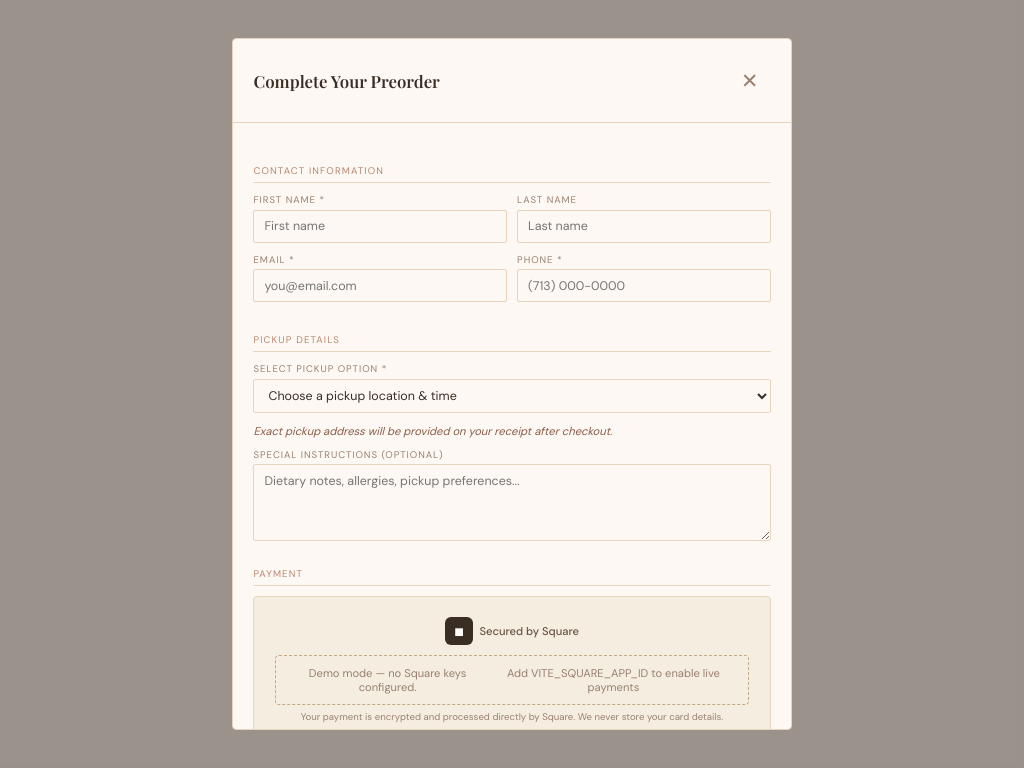
Scenario: CheckoutModal – validation unit tests › empty email shows "Email is required"
Type "Jane" into the field with placeholder "First name". click: point(380, 226)
box: [254,210,507,243]
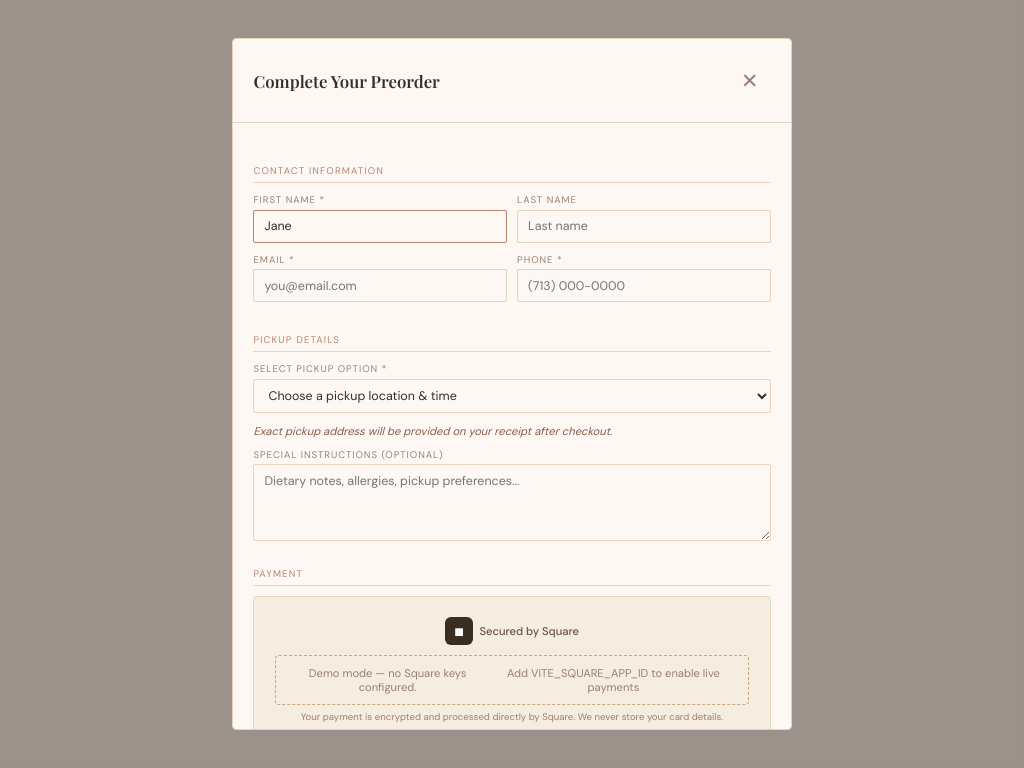
Type "7135551234" into the field with placeholder "(713) 000-0000". click: point(644, 286)
box: [517,269,770,302]
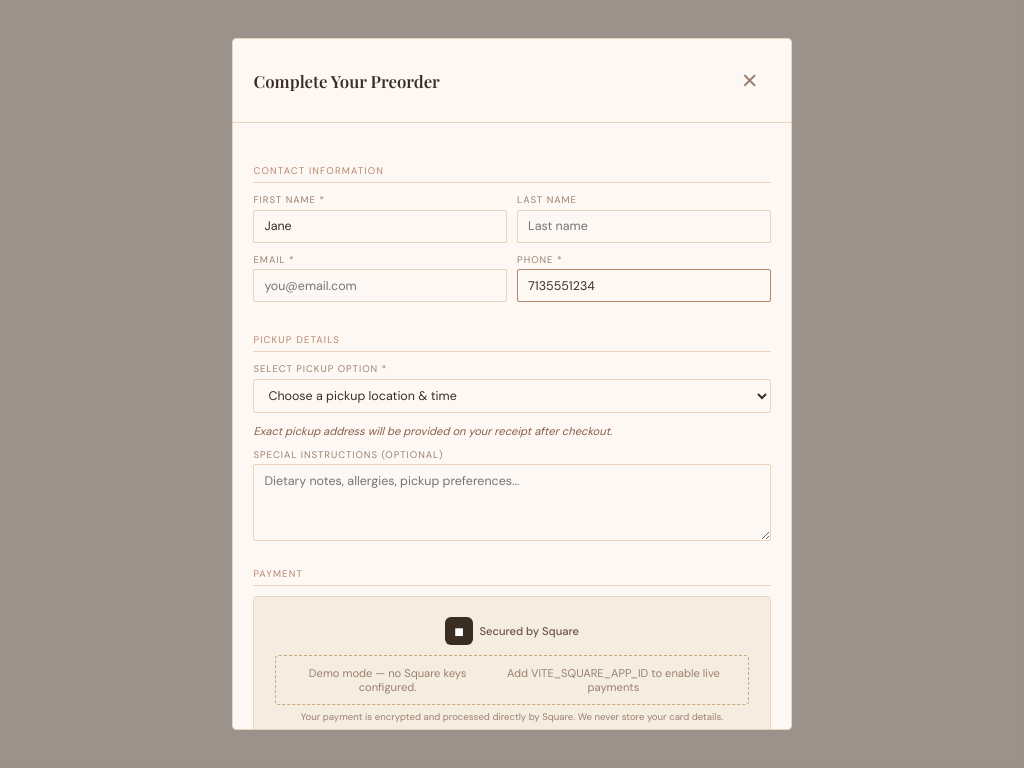
Select "Spring, TX 77068 — Sunday 4/19 at 3:00 PM" in the dropdown. click: point(512, 396)
box: [254,378,771,414]
(page scrolled)
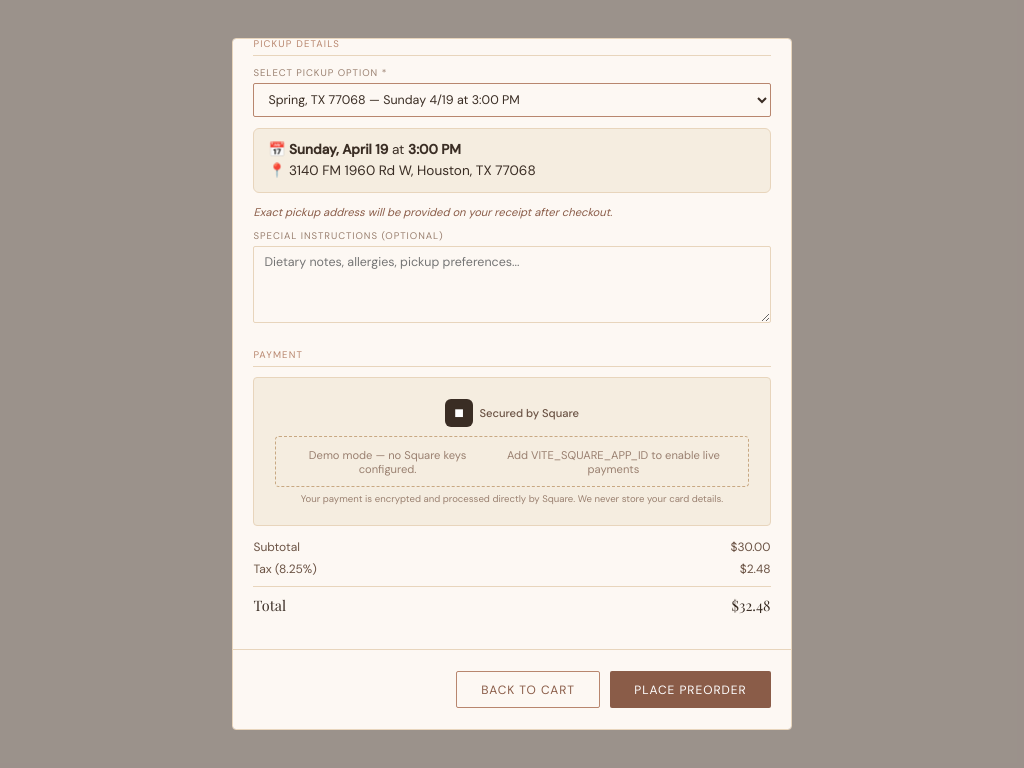
Click the button "Place Preorder". click: point(690, 690)
box: [610,671,771,708]
(page scrolled)
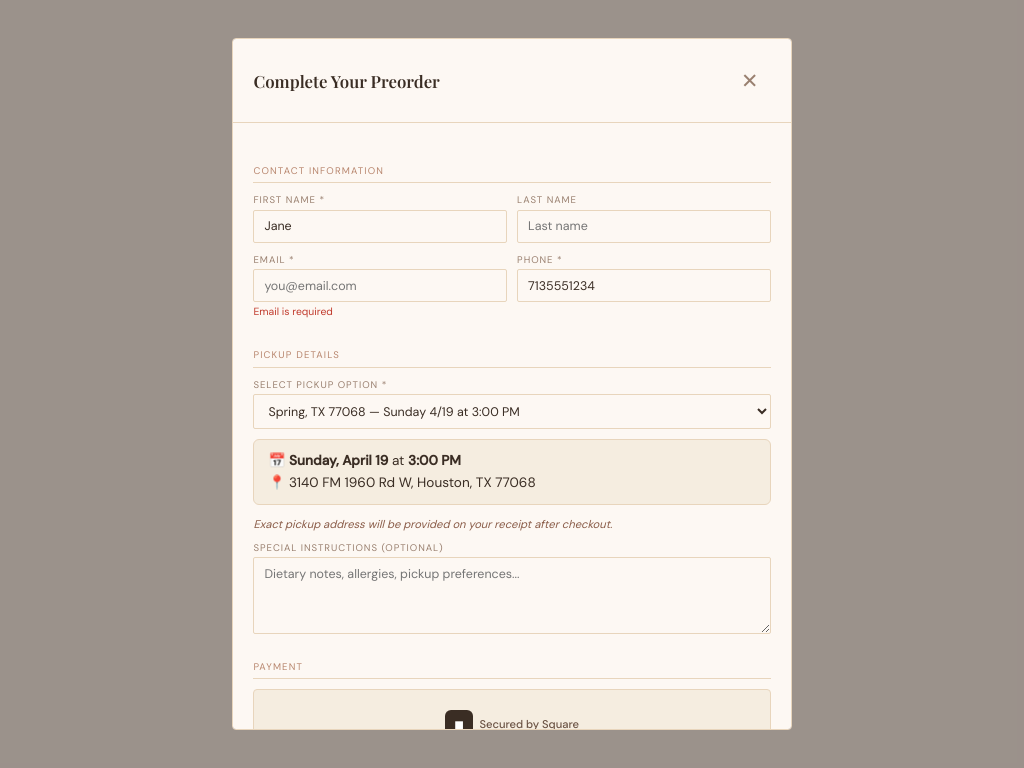
Expected: the text "Email is required" is shown, [254,305,333,318]
